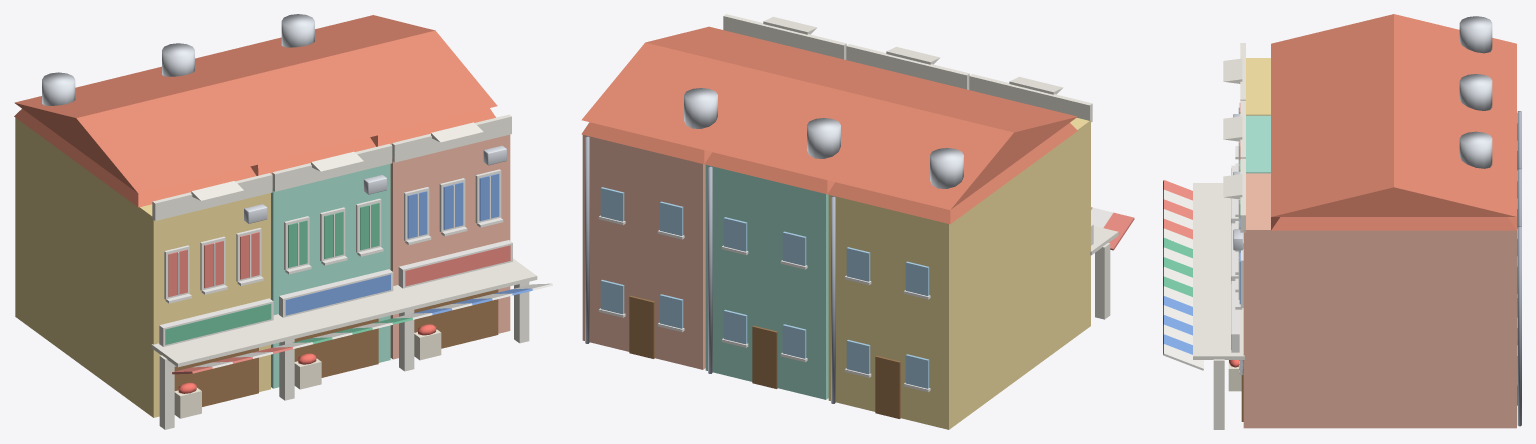
Rendered from Bld_ShopRowA.fbx.
3 renders of one model, left to right at view 1: azimuth 30°, elevation 25°; view 2: azimuth 150°, elevation 25°; view 3: azimuth 270°, elevation 25°, orthographic. The views are drawn at different scales.
Visible parts, largest first — view 1: Bld_ShopRowA; view 2: Bld_ShopRowA; view 3: Bld_ShopRowA.
Part boxes in pixels (x1,y1,x2,y2): Bld_ShopRowA: [14, 14, 552, 429]; Bld_ShopRowA: [581, 14, 1134, 429]; Bld_ShopRowA: [1163, 14, 1521, 429].
Bounding box in the file's own units: 15.2 × 9.85 × 13.13.
